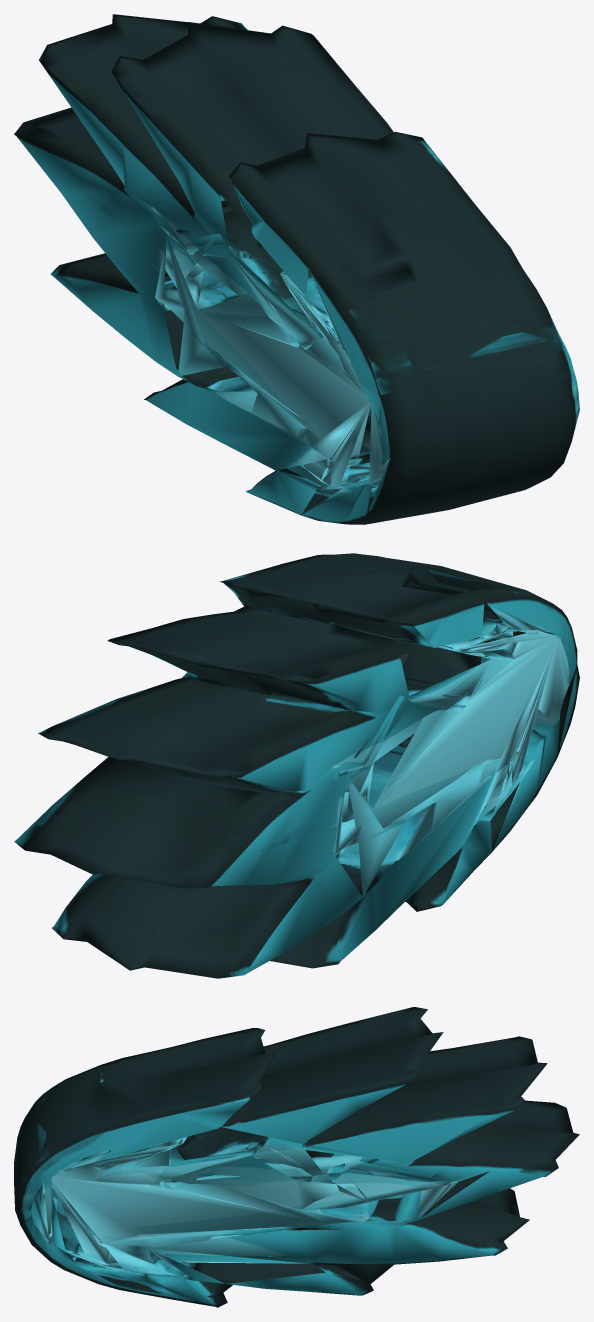
Rendered from nitro-cyan.glb.
3 views of the same model, one above another, from view 1: azimuth 30°, elevation 25°; view 2: azimuth 150°, elevation 25°; view 3: azimuth 270°, elevation 25° (orthographic). The views are drawn at different scales.
Visible parts, largest first — view 1: tripo_node_516c460b-f55a-4c93-939f-1e407c086172; view 2: tripo_node_516c460b-f55a-4c93-939f-1e407c086172; view 3: tripo_node_516c460b-f55a-4c93-939f-1e407c086172.
Boxes of the visible parts, x1,y1,x2,y2 form: tripo_node_516c460b-f55a-4c93-939f-1e407c086172: (14, 14, 579, 524); tripo_node_516c460b-f55a-4c93-939f-1e407c086172: (14, 553, 579, 978); tripo_node_516c460b-f55a-4c93-939f-1e407c086172: (14, 1007, 579, 1307).
Size of the model in its own units: 0.28 by 0.4592 by 0.95.
1 material, 1 textured.
